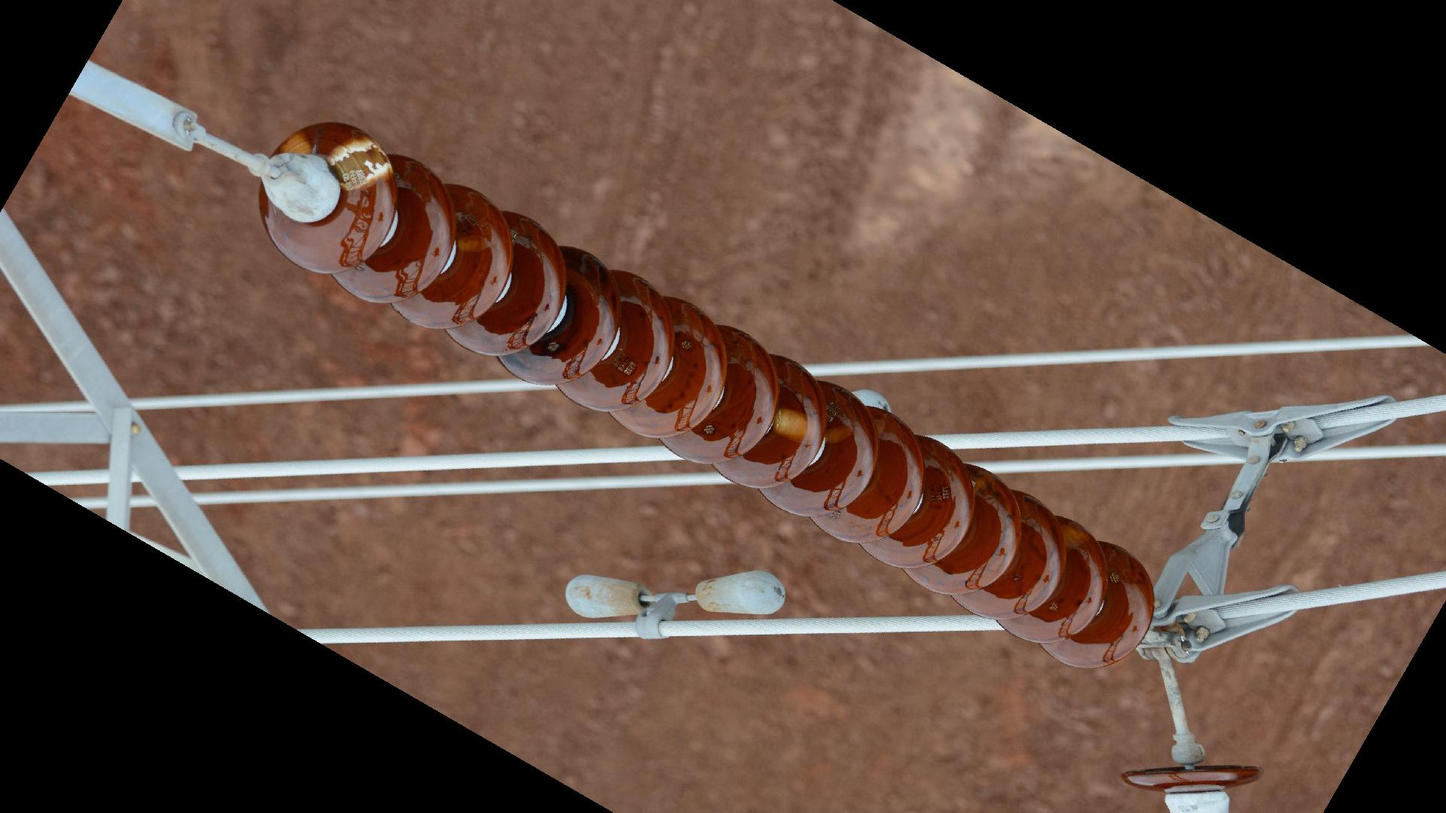insulator: (253, 117, 1159, 680), (1115, 760, 1266, 813)
insulator_flashover: (326, 132, 395, 193), (771, 406, 820, 447), (277, 129, 315, 157)
